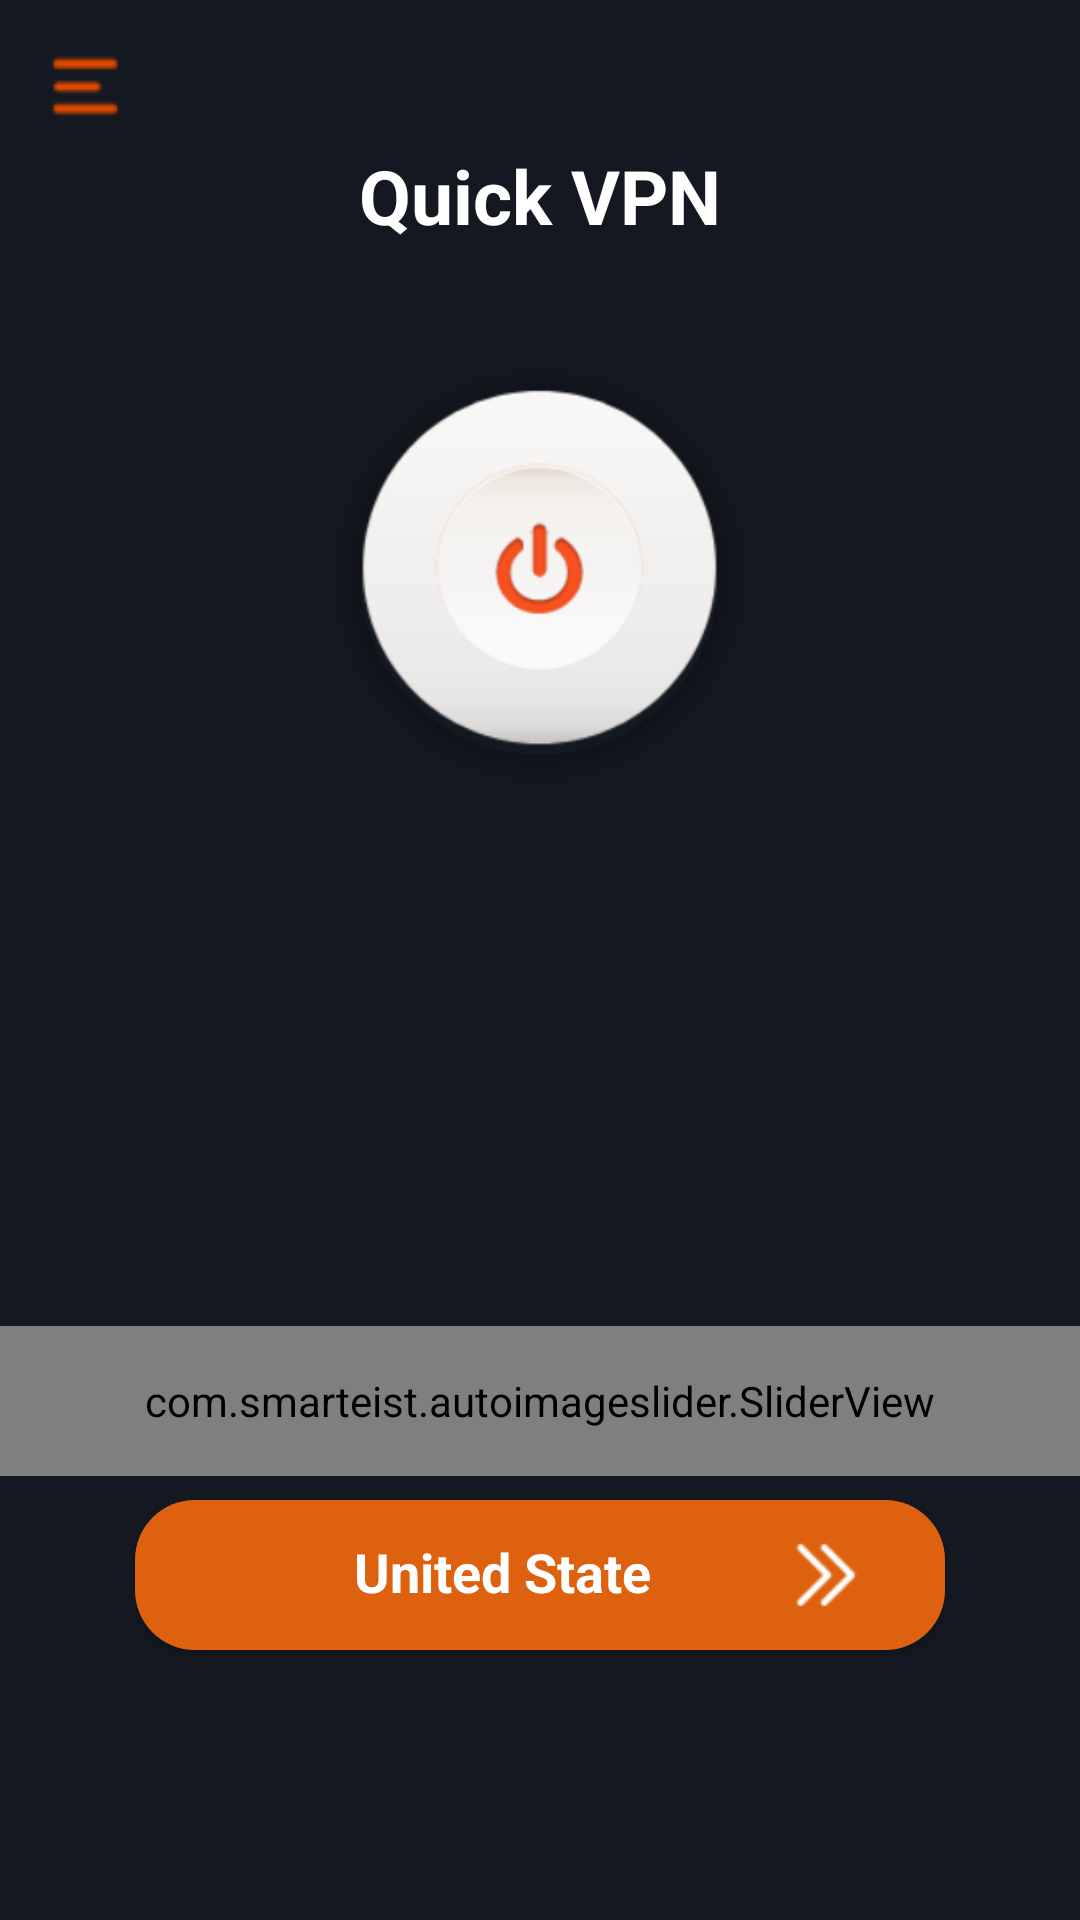

Named icons in this screenshot (1080×1920) and their bounding boxes, (x1, y1, x2, y2):
menu: (51, 57, 118, 115)
power settings disable: (362, 390, 717, 745)
